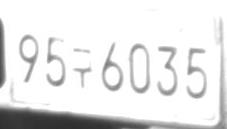0: (127, 42, 150, 94)
3: (156, 45, 178, 96)
5: (185, 47, 207, 98), (45, 36, 66, 87)
6: (100, 42, 123, 91)
9: (19, 34, 40, 82)
구: (72, 47, 92, 88)
